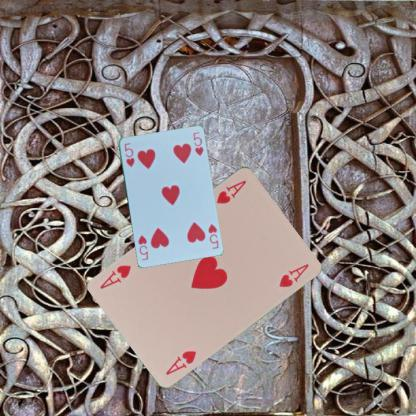5h: (205, 221, 220, 250), (122, 140, 136, 168)
Ah: (163, 347, 198, 376), (213, 177, 248, 205)
